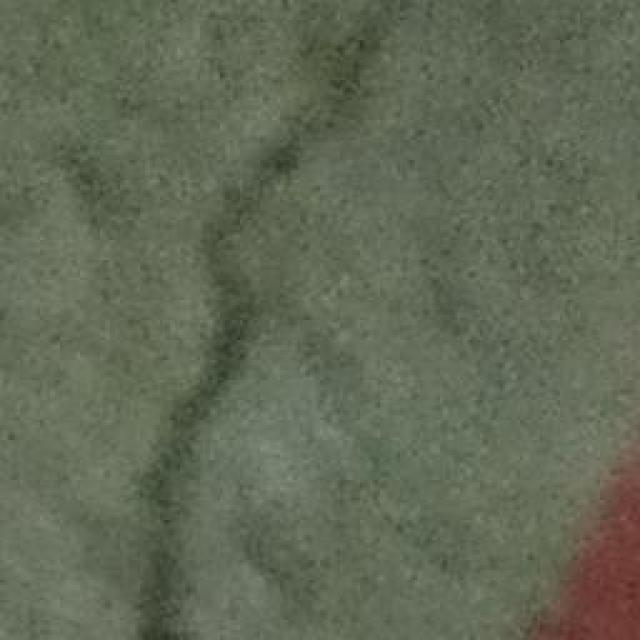Longitudinal: (114, 0, 360, 640)
